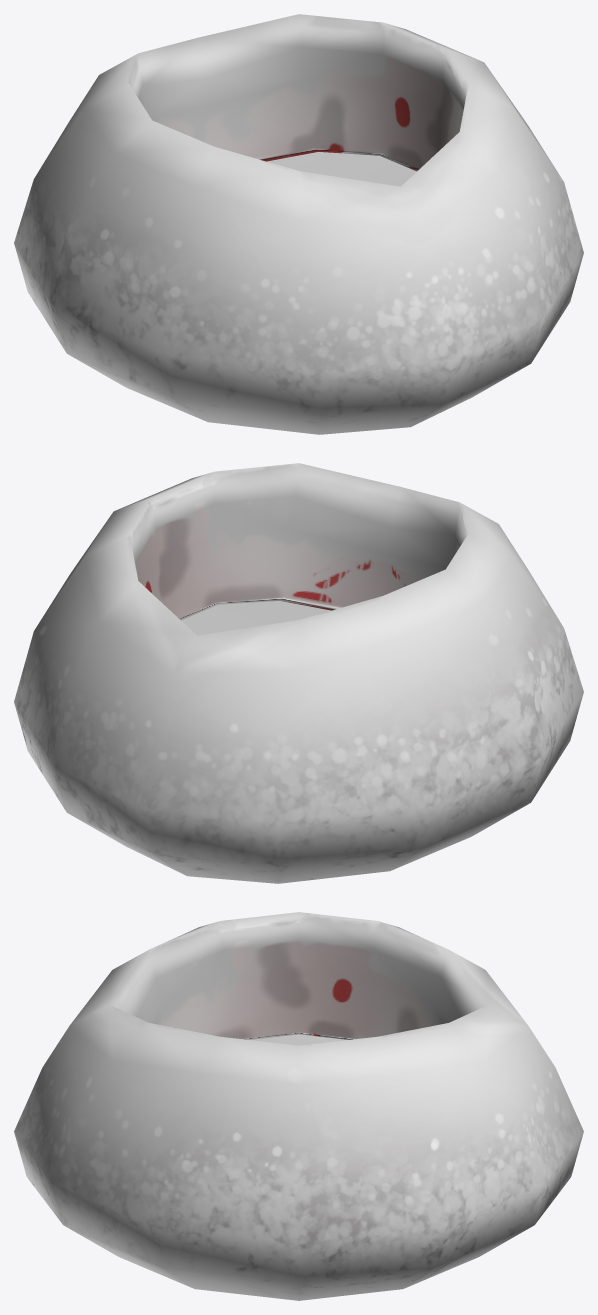
Rendered from Model_IchigoDaihuku_02.fbx.
3 views of the same model, one above another, from view 1: azimuth 30°, elevation 25°; view 2: azimuth 150°, elevation 25°; view 3: azimuth 270°, elevation 25° (orthographic). The views are drawn at different scales.
Parts seen in each view (by area): view 1: polySurface1; view 2: polySurface1; view 3: polySurface1.
Part boxes in pixels (bbox=[...]): polySurface1: bbox=[14, 14, 583, 434]; polySurface1: bbox=[14, 463, 583, 883]; polySurface1: bbox=[14, 912, 583, 1300].
Size of the model in its own units: 210 by 116 by 228.
